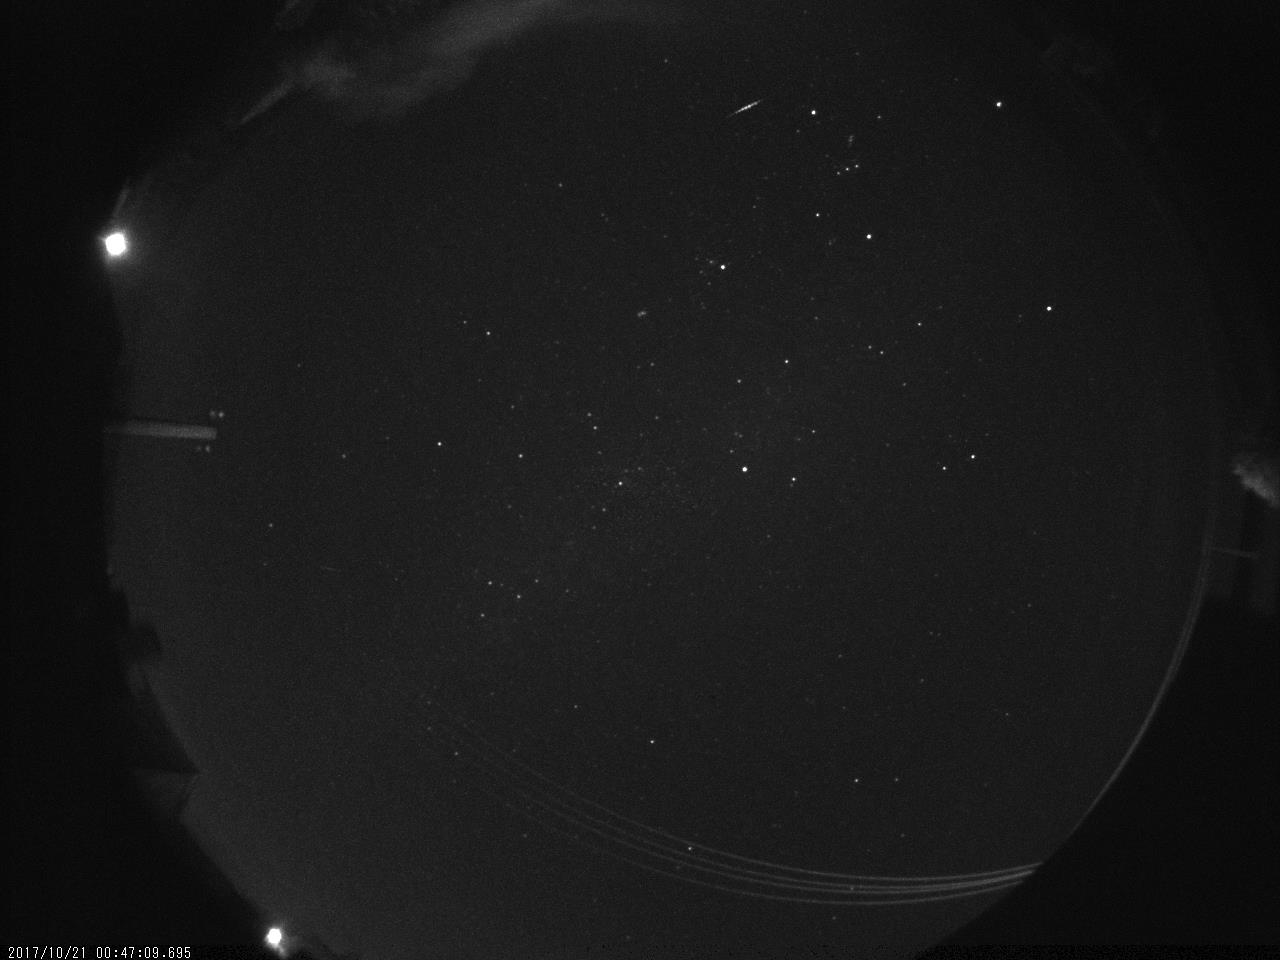meteor: (696, 82, 792, 137)
